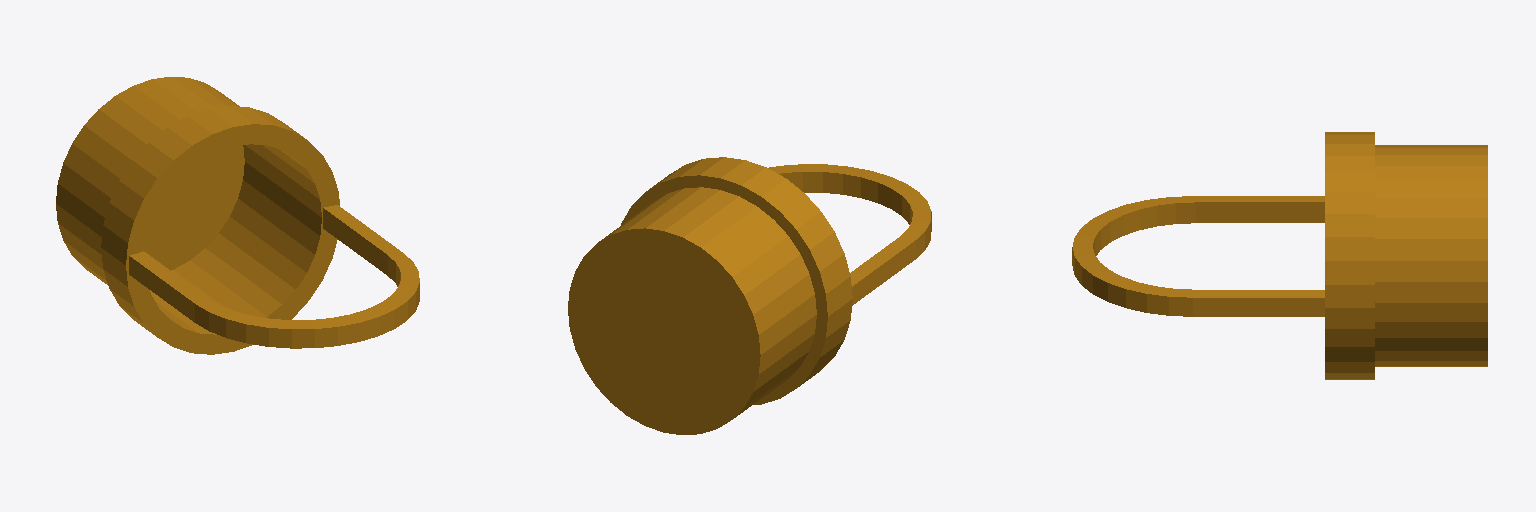
File: pozo.obj
3 renders of one model, left to right at view 1: azimuth 30°, elevation 25°; view 2: azimuth 150°, elevation 25°; view 3: azimuth 270°, elevation 25°, orthographic.
Parts seen in each view (by area): view 1: Cylinder.001, Cylinder_Cylinder.002; view 2: Cylinder.001, Cylinder_Cylinder.002; view 3: Cylinder.001, Cylinder_Cylinder.002.
Boxes of the visible parts, box(x1,y1,x2,y2) form: Cylinder.001: box(56, 77, 339, 354); Cylinder_Cylinder.002: box(129, 205, 419, 348); Cylinder.001: box(568, 157, 852, 434); Cylinder_Cylinder.002: box(768, 164, 931, 305); Cylinder.001: box(1325, 132, 1487, 379); Cylinder_Cylinder.002: box(1072, 196, 1324, 316).
Size of the model in its own units: 2.43 by 2.43 by 4.07.